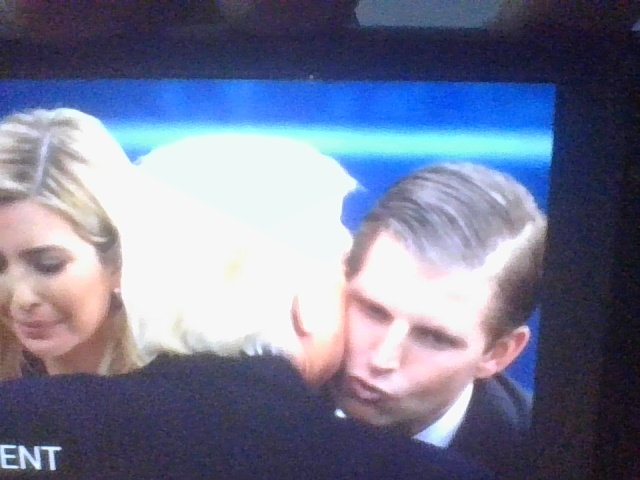fake: (319, 166, 511, 438), (0, 148, 163, 379)
